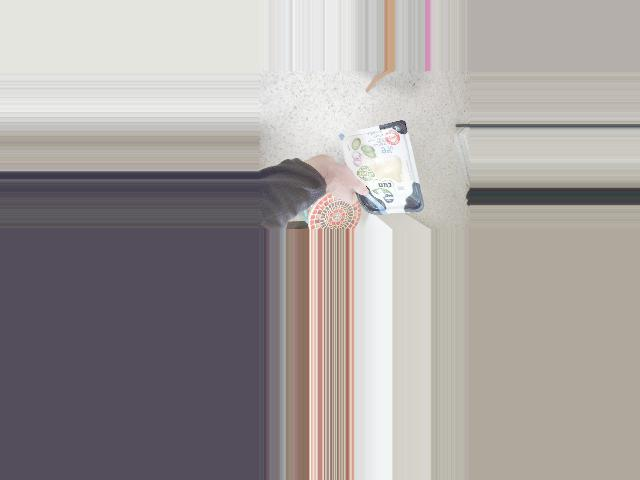cheese: (347, 119, 416, 220)
